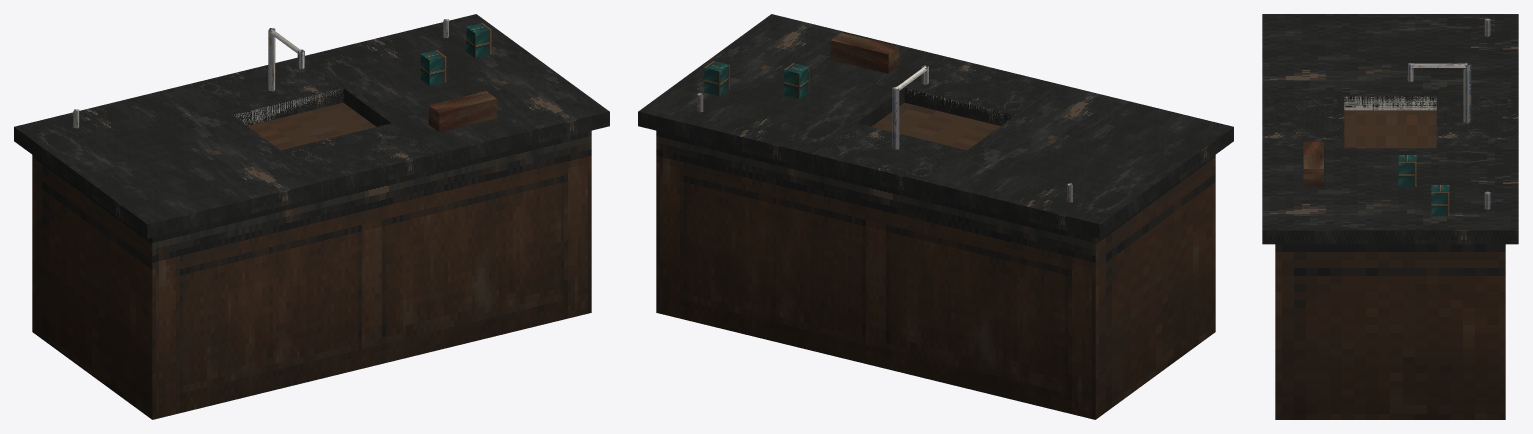
File: prop_labbench-2.glb
3 renders of one model, left to right at view 1: azimuth 30°, elevation 25°; view 2: azimuth 150°, elevation 25°; view 3: azimuth 270°, elevation 25°, orthographic. The views are drawn at different scales.
Visible parts, largest first — view 1: prop_labbench-2; view 2: prop_labbench-2; view 3: prop_labbench-2.
Boxes of the visible parts, x1=… form: prop_labbench-2: x1=14, y1=14, x2=609, y2=419; prop_labbench-2: x1=638, y1=14, x2=1233, y2=419; prop_labbench-2: x1=1262, y1=14, x2=1518, y2=419.
Bounding box in the file's own units: 2 × 1.09 × 1.
Materials: 4 (4 with a texture image).
